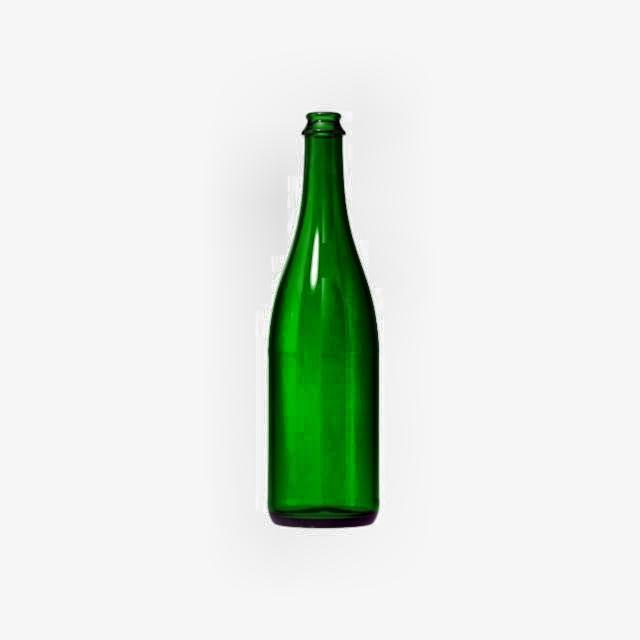glass: (266, 111, 380, 530)
